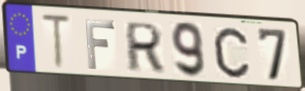7: (256, 26, 290, 84)
9: (168, 21, 208, 80)
C: (211, 26, 252, 80)
F: (83, 18, 117, 71)
R: (125, 20, 165, 73)
T: (39, 12, 74, 73)
